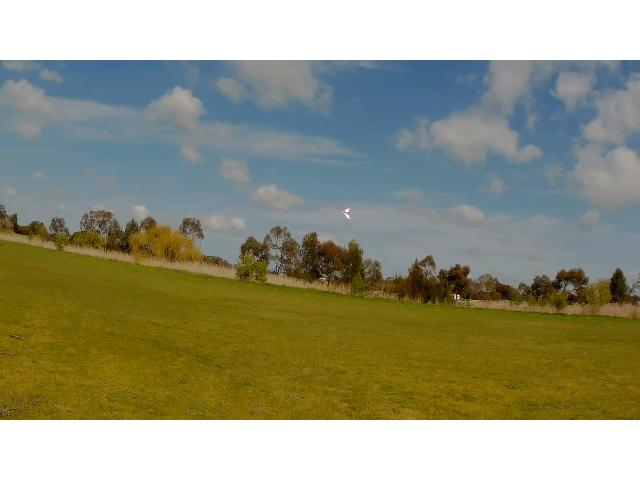Anti-Drone: (343, 209, 351, 219)
